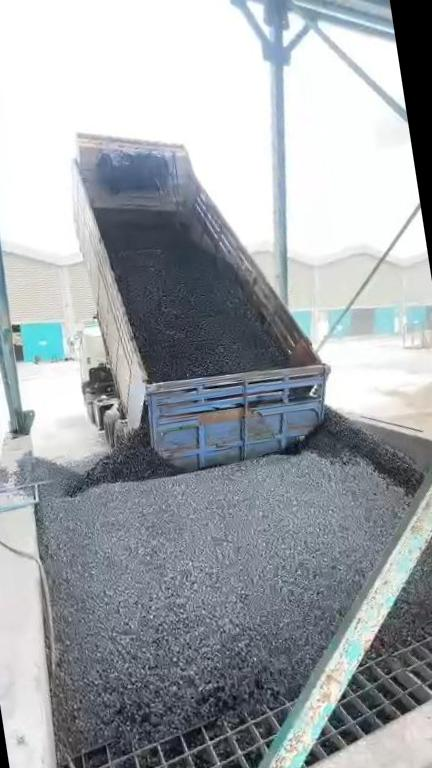gravel: (20, 413, 428, 759), (109, 246, 282, 386), (373, 479, 432, 651)
sand: (366, 376, 432, 434)
